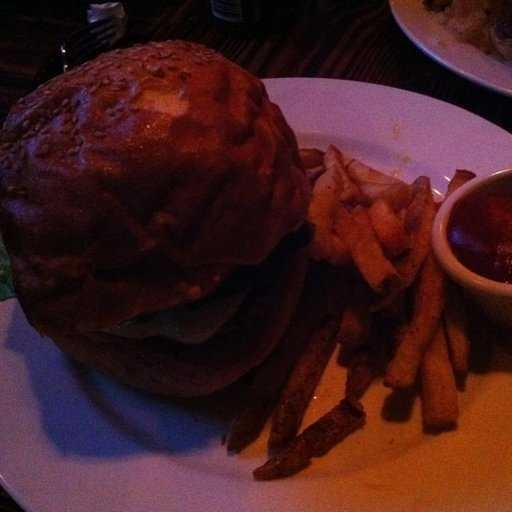hamburger: (3, 29, 299, 444)
